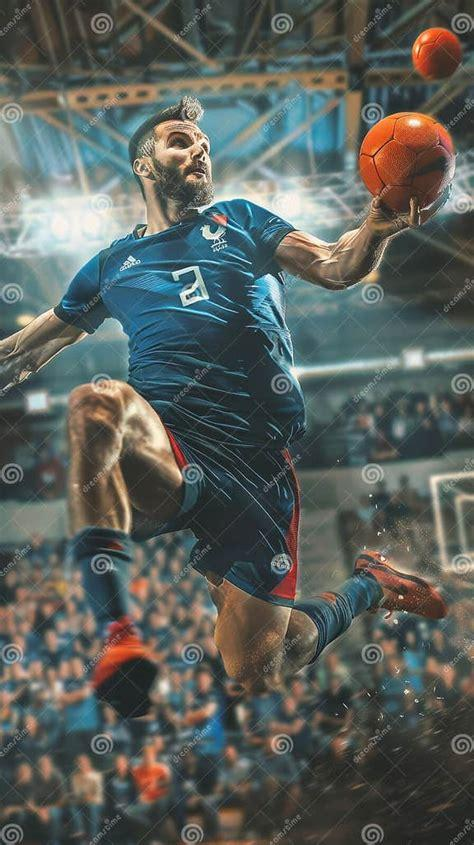ballon_handball: (360, 112, 458, 209), (409, 26, 460, 80)
